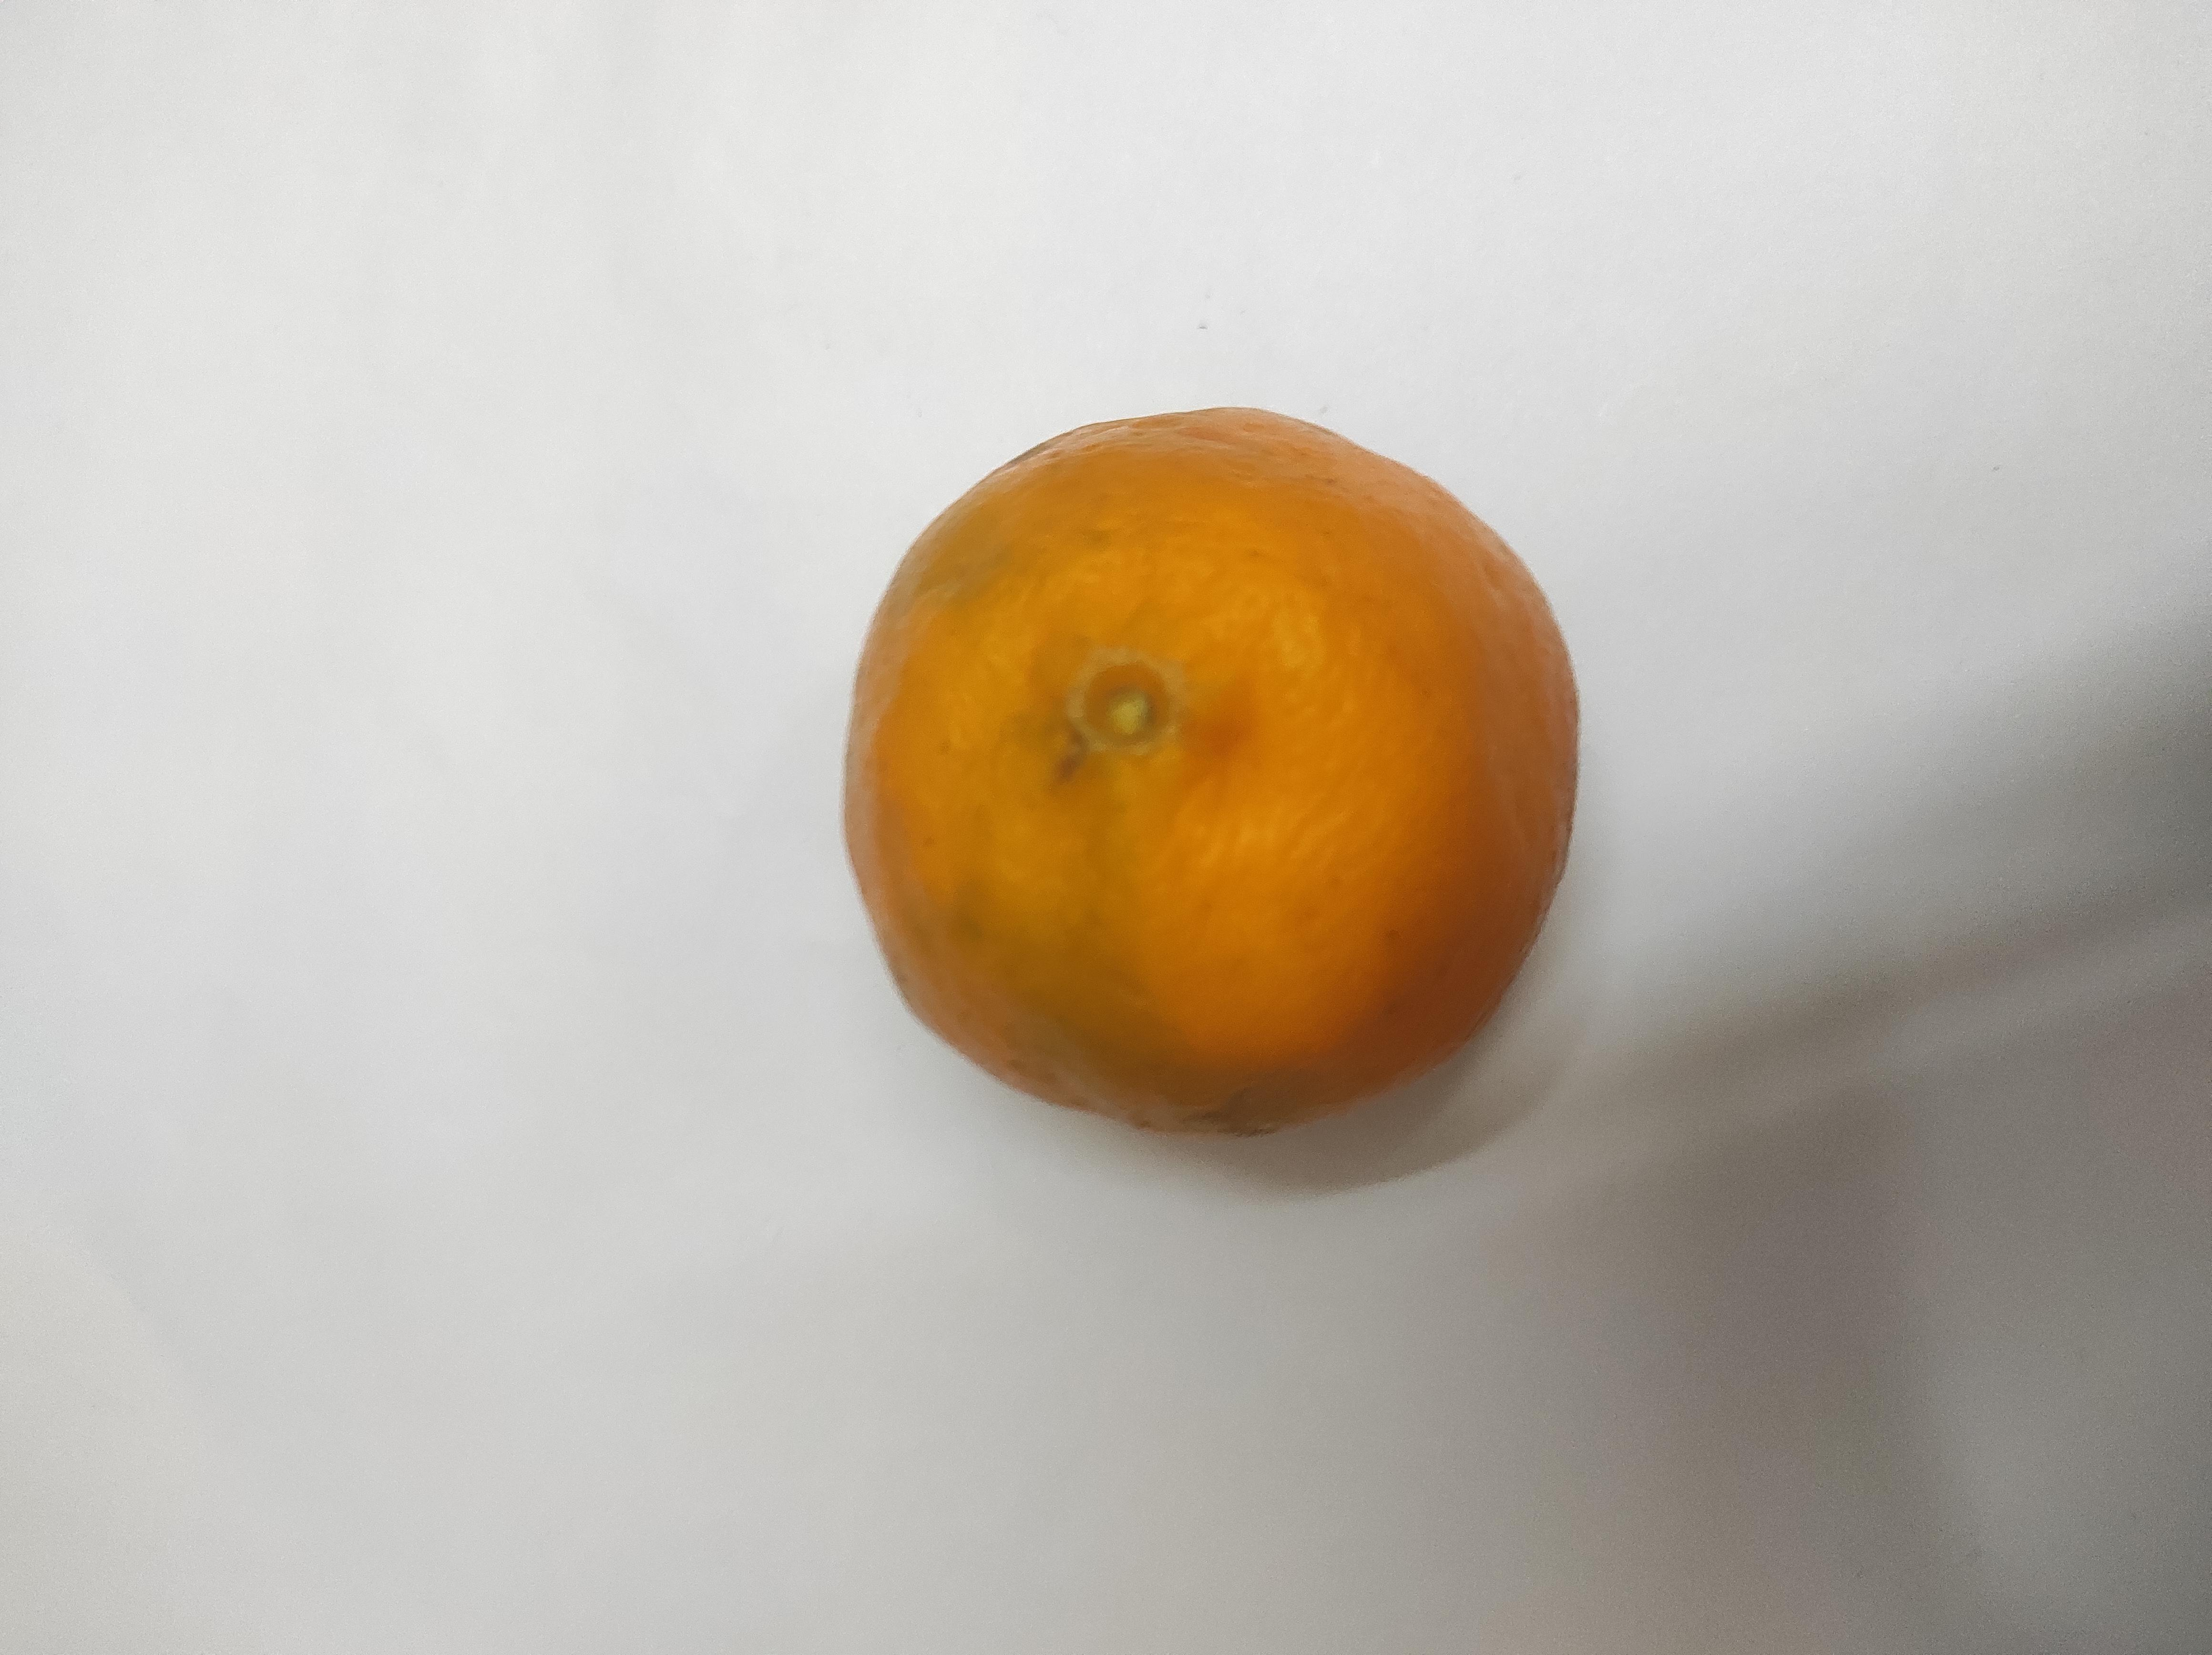Unripe: (843, 405, 1596, 1135)
